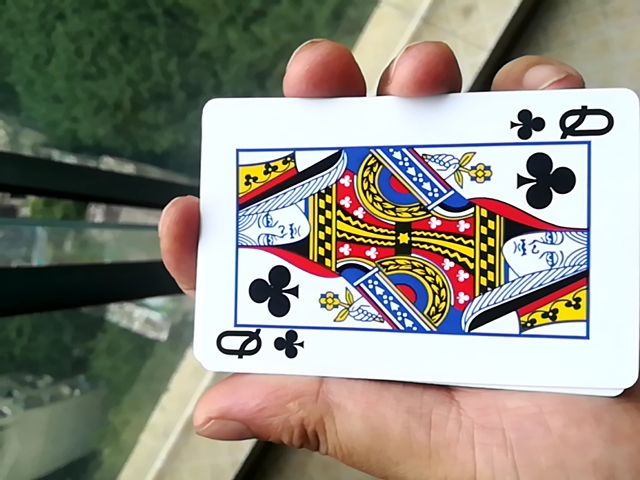mh q: (166, 91, 629, 397)
